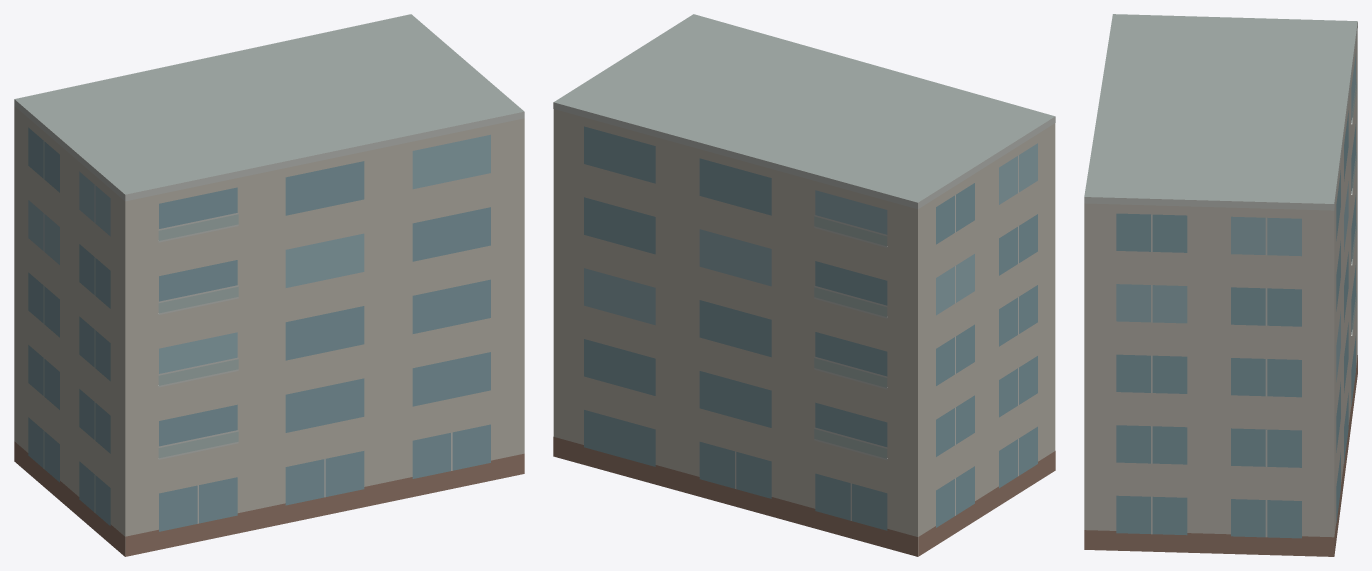
Rendered from survey-upis-32478431.glb.
The picture shows the model from 3 angles, left to right: view 1: azimuth 30°, elevation 25°; view 2: azimuth 150°, elevation 25°; view 3: azimuth 270°, elevation 25°; orthographic projection. The views are drawn at different scales.
Visible parts, largest first — view 1: survey-upis-32478431.tmp; view 2: survey-upis-32478431.tmp; view 3: survey-upis-32478431.tmp.
Boxes of the visible parts, x1=… form: survey-upis-32478431.tmp: x1=14, y1=14, x2=524, y2=556; survey-upis-32478431.tmp: x1=553, y1=14, x2=1055, y2=556; survey-upis-32478431.tmp: x1=1084, y1=14, x2=1357, y2=556.
Size of the model in its own units: 15.22 by 13.17 by 9.26.
